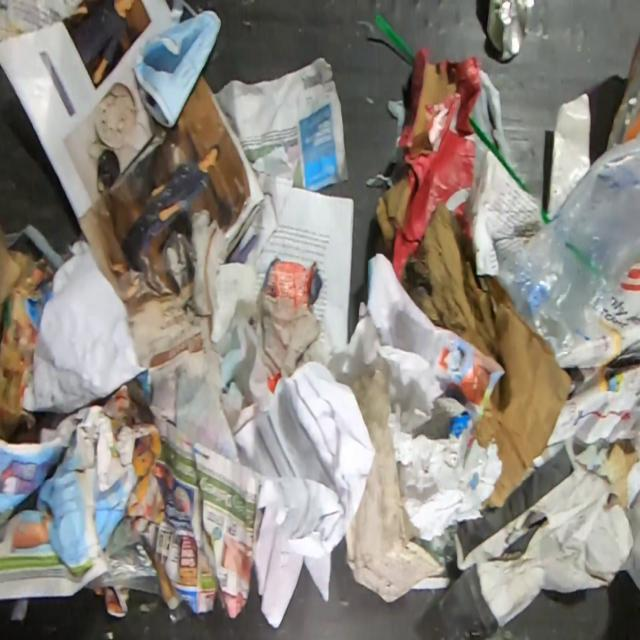cardboard: (400, 199, 572, 511), (130, 10, 222, 128)
metal: (486, 0, 536, 62)
soft_plastic: (493, 130, 640, 369), (86, 516, 162, 595), (604, 31, 639, 153)
